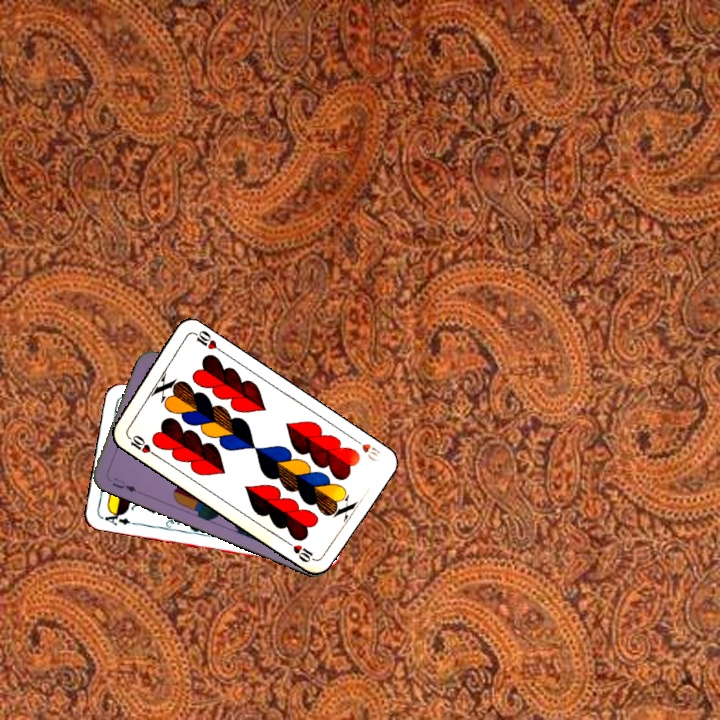EA: (98, 507, 133, 528)
EU: (108, 474, 139, 495)
H10: (348, 433, 383, 464), (123, 431, 159, 458)
